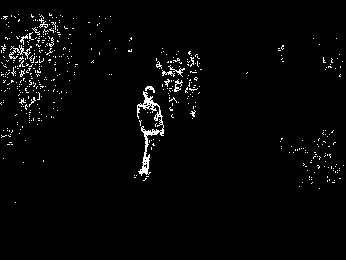person: (135, 85, 166, 181), (184, 50, 203, 118), (164, 54, 182, 119)
